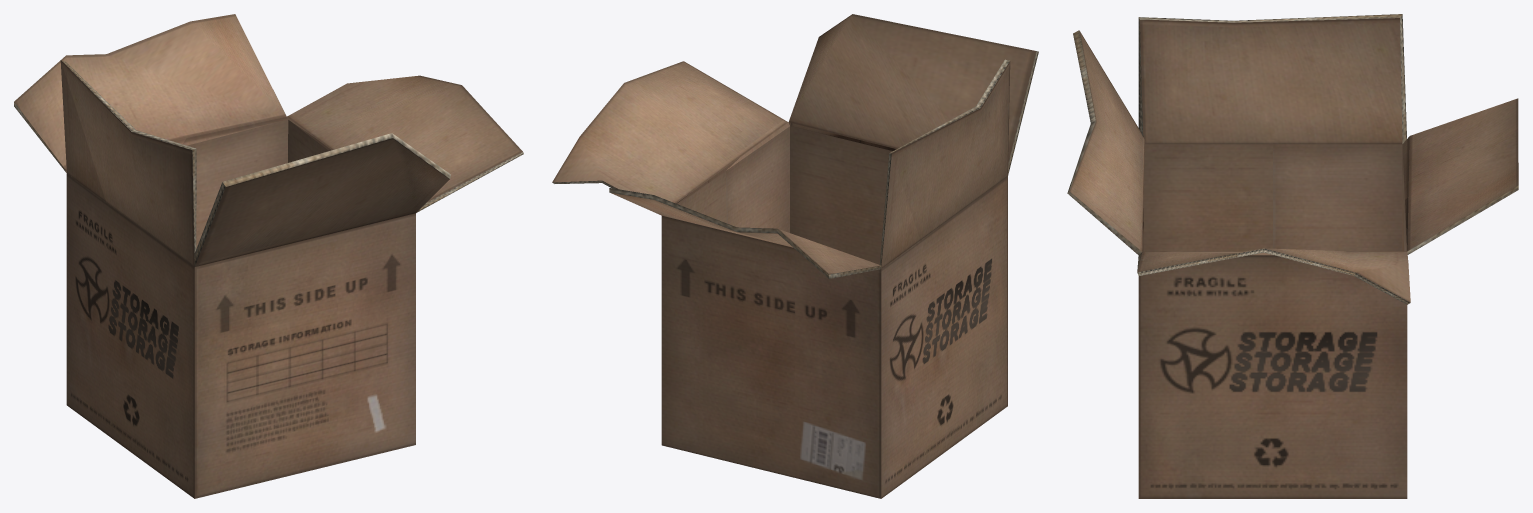
3 views of the same model, side by side, from view 1: azimuth 30°, elevation 25°; view 2: azimuth 150°, elevation 25°; view 3: azimuth 270°, elevation 25° (orthographic). The views are drawn at different scales.
Parts seen in each view (by area): view 1: Box_13; view 2: Box_13; view 3: Box_13.
Part boxes in pixels (bbox=[...]): Box_13: bbox=[14, 14, 523, 498]; Box_13: bbox=[552, 14, 1038, 498]; Box_13: bbox=[1067, 14, 1518, 498].
Bounding box in the file's own units: 78.65 × 75.38 × 83.95.
